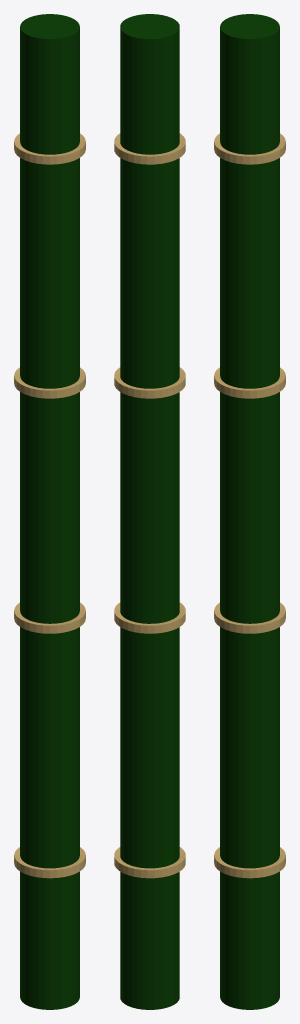
Rendered from bamboo 1.fbx.
The picture shows the model from 3 angles, left to right: view 1: azimuth 90°, elevation 25°; view 2: azimuth 210°, elevation 25°; view 3: azimuth 270°, elevation 25°; orthographic projection.
Visible parts, largest first — view 1: Cylinder; view 2: Cylinder; view 3: Cylinder.
Boxes of the visible parts, x1,y1,x2,y2 form: Cylinder: [14, 14, 85, 1009]; Cylinder: [114, 14, 185, 1009]; Cylinder: [214, 14, 285, 1009].
Bounding box in the file's own units: 164 × 2449 × 164.
